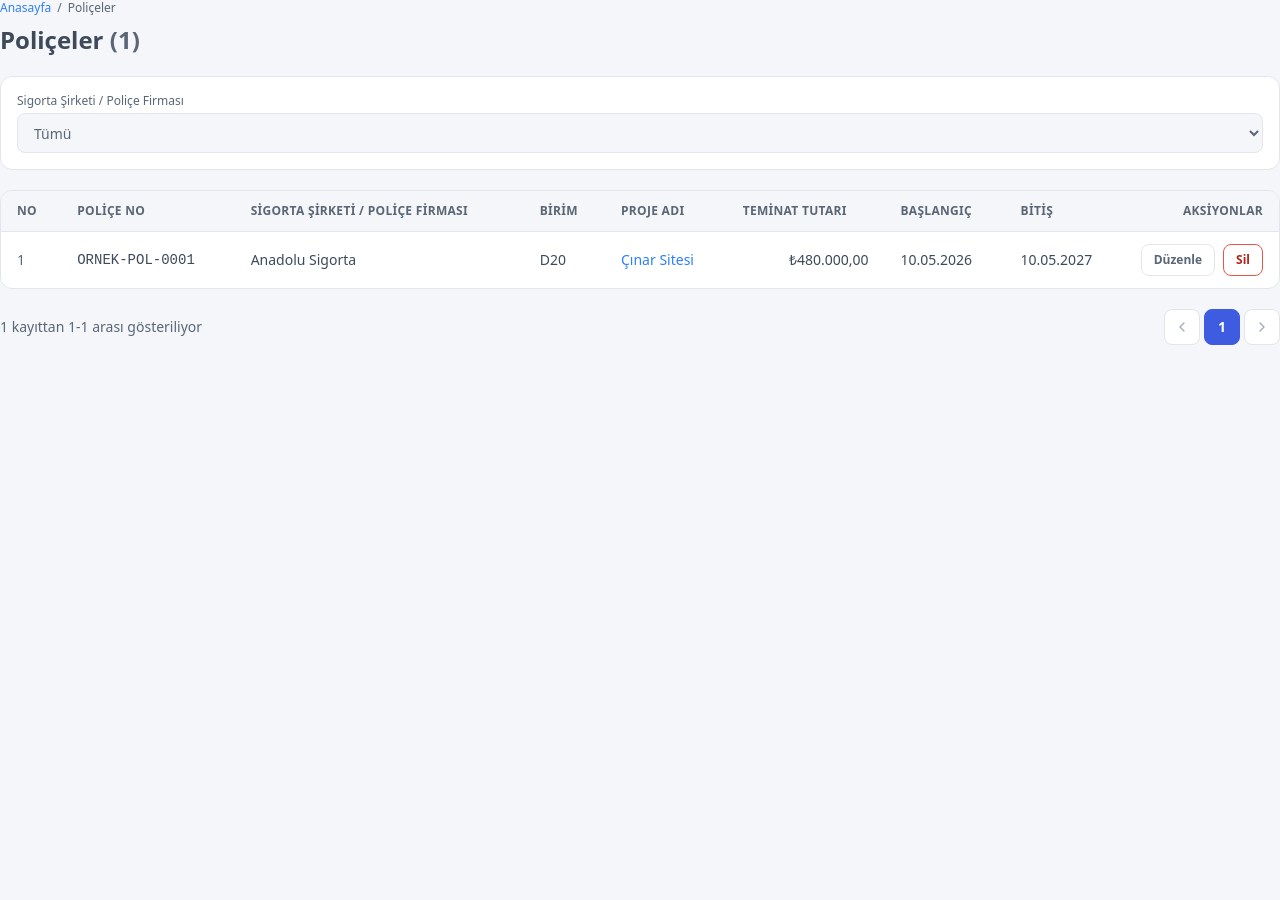
PolicyListPage › "Sil" önce onay sorar, onaylanınca satırı düşürür
The width and height of the screenshot is (1280, 900).
Expected: the table is shown, [1,191,1279,288]
Click the button "Sil".
click(1243, 260)  # box [1223,244,1263,276]
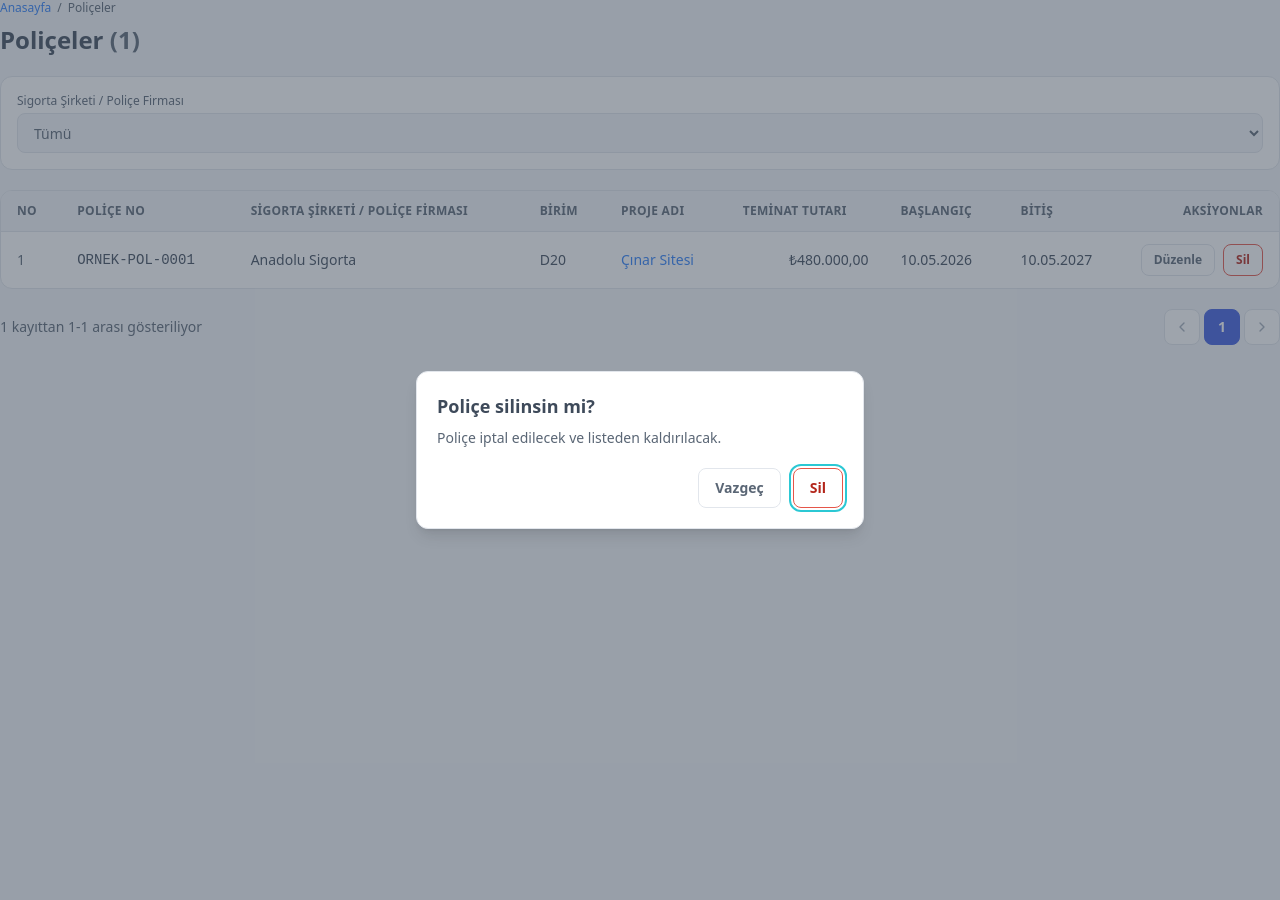
Click the button "Sil".
click(818, 488)  # box [793,468,843,508]
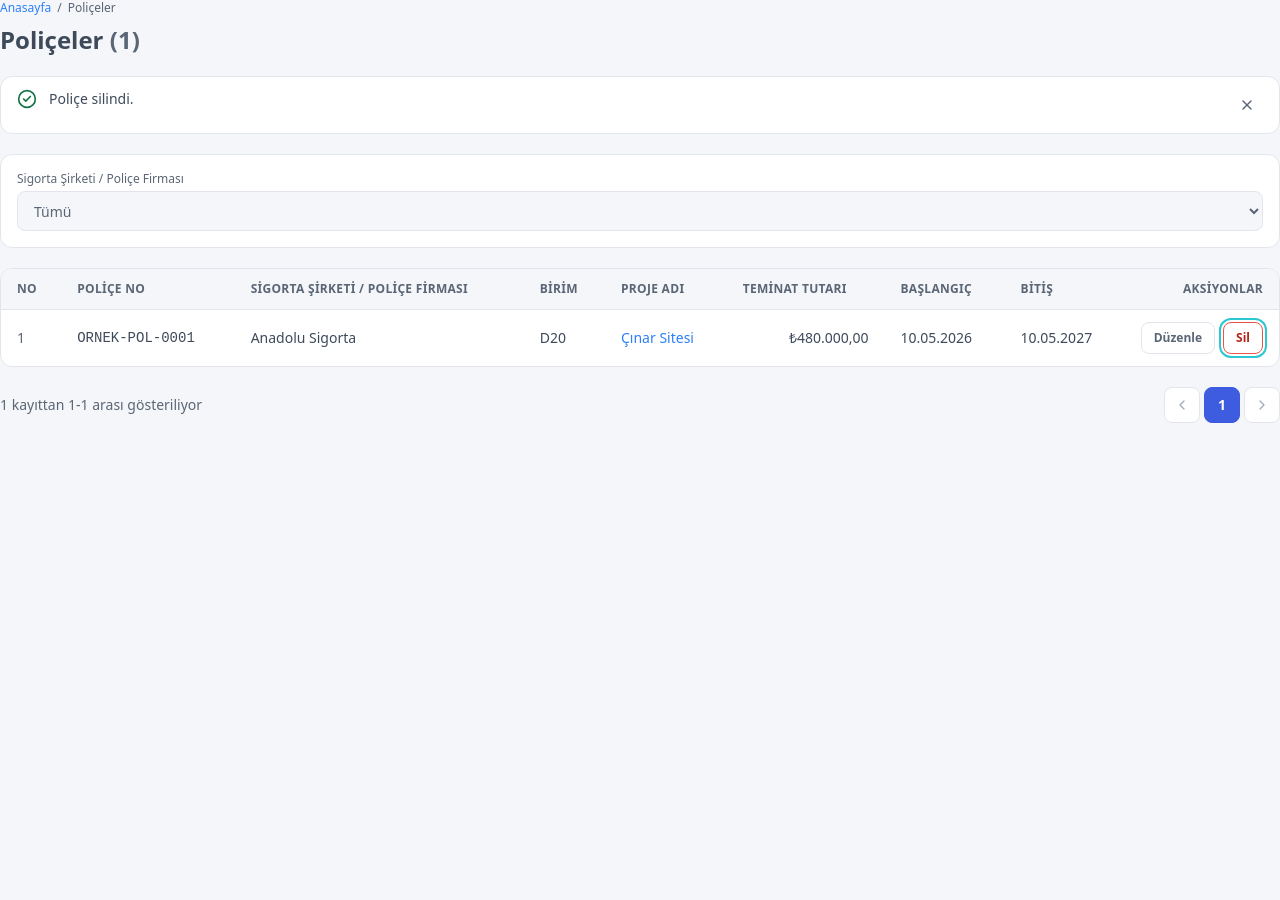
Now the text "Poliçe silindi." is shown, box [49,89,134,108]
